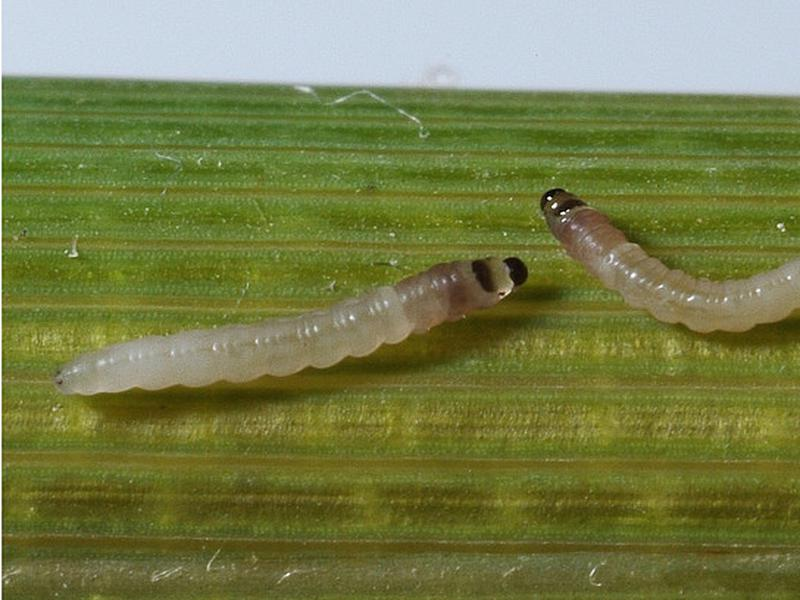Paddy_stemborer: (33, 247, 552, 407), (532, 162, 800, 341)
